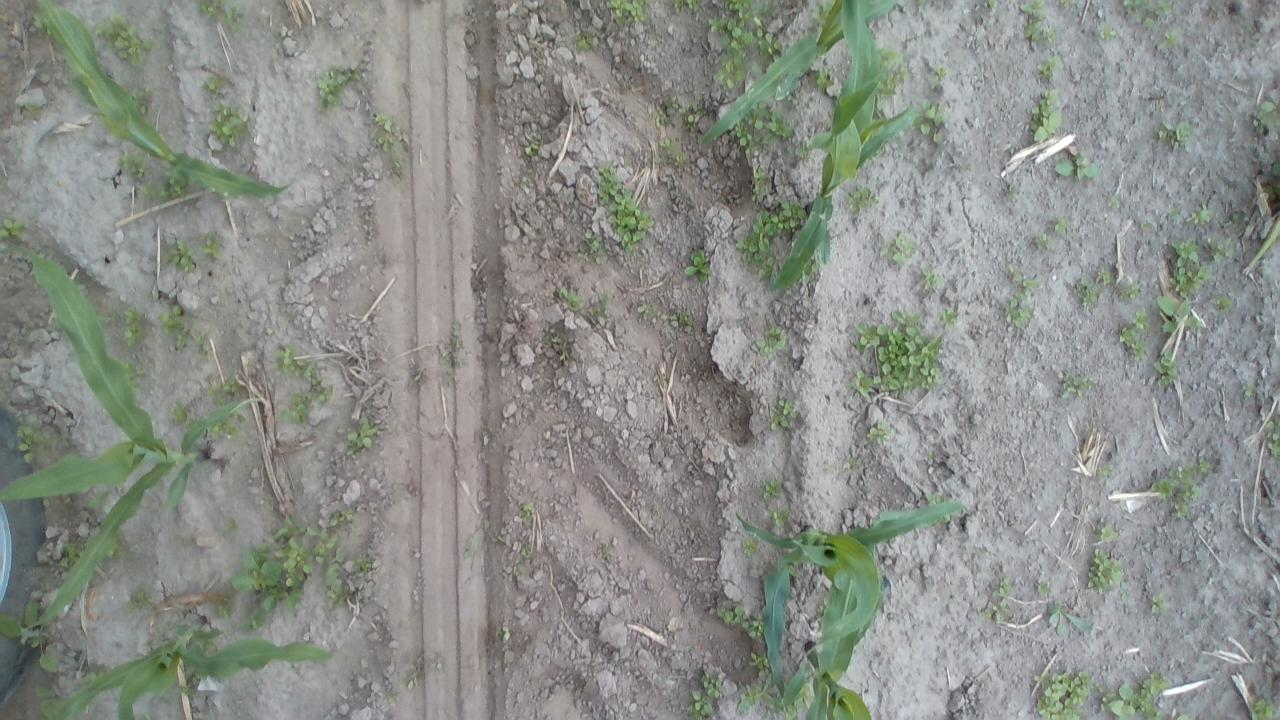Maize: (3, 244, 261, 632), (35, 0, 299, 199), (731, 502, 966, 711), (767, 2, 915, 292), (49, 618, 338, 720), (700, 0, 891, 149), (782, 641, 872, 720)
Weeds: (844, 308, 948, 397), (233, 526, 314, 626), (594, 162, 656, 248), (0, 601, 60, 679), (732, 202, 808, 259), (711, 1, 757, 95), (1091, 667, 1170, 720), (91, 17, 160, 73), (1149, 457, 1210, 520), (273, 344, 337, 403), (732, 104, 792, 163), (1162, 236, 1216, 295), (1030, 666, 1088, 720), (158, 307, 210, 359), (314, 63, 359, 112), (372, 112, 408, 172), (878, 46, 918, 98), (209, 102, 248, 154), (1030, 90, 1064, 146), (314, 510, 352, 560), (1047, 601, 1094, 641), (1158, 296, 1204, 334), (689, 670, 724, 718), (1016, 0, 1056, 41), (1119, 304, 1147, 362), (276, 395, 318, 433), (1090, 550, 1123, 598), (130, 172, 185, 200), (1053, 146, 1097, 181), (324, 552, 350, 610), (1125, 0, 1175, 30), (16, 425, 52, 465), (341, 416, 378, 454), (917, 102, 950, 144), (160, 238, 196, 274), (1154, 344, 1181, 390), (845, 186, 879, 221), (197, 1, 248, 24), (882, 228, 914, 264), (120, 307, 148, 348), (207, 376, 244, 407), (572, 228, 606, 260), (1004, 292, 1032, 330), (756, 327, 791, 356), (746, 167, 773, 204), (1160, 121, 1192, 152), (1058, 372, 1095, 398), (125, 582, 155, 614), (607, 0, 648, 23), (35, 682, 61, 718), (975, 599, 1012, 624), (116, 154, 150, 180), (1075, 278, 1104, 308), (653, 96, 680, 128), (768, 400, 794, 433), (1246, 695, 1280, 720), (1264, 151, 1280, 203), (198, 234, 228, 261), (736, 684, 762, 714), (1207, 238, 1234, 266), (1259, 90, 1280, 126), (756, 27, 782, 56), (863, 422, 892, 448), (917, 268, 946, 294), (543, 334, 568, 364), (462, 528, 483, 563), (558, 284, 584, 312), (1034, 54, 1062, 80), (1265, 412, 1280, 459), (684, 250, 711, 276), (1161, 198, 1185, 227), (756, 256, 778, 286), (203, 75, 232, 97), (587, 296, 608, 326), (682, 104, 708, 128), (61, 542, 86, 566), (791, 137, 812, 165), (755, 0, 787, 18), (1187, 206, 1215, 226), (1008, 270, 1036, 290), (1114, 282, 1142, 302), (403, 667, 423, 694), (168, 401, 190, 425), (760, 477, 783, 499), (932, 66, 951, 92), (712, 606, 739, 624), (634, 298, 656, 320), (0, 219, 23, 240), (1092, 519, 1114, 540), (1030, 234, 1052, 255), (353, 554, 378, 572), (842, 453, 863, 474), (816, 70, 834, 94), (130, 89, 150, 110), (746, 650, 766, 671), (1228, 209, 1246, 232), (668, 309, 688, 329), (770, 506, 788, 528), (742, 620, 764, 638), (1158, 30, 1180, 48), (940, 307, 961, 325), (1096, 23, 1116, 41), (1148, 591, 1165, 612), (812, 0, 828, 22), (673, 0, 699, 13), (573, 34, 594, 50), (740, 539, 758, 557), (1003, 184, 1018, 205), (1034, 576, 1052, 593), (1136, 216, 1154, 233), (656, 138, 675, 154), (673, 152, 689, 171), (210, 424, 240, 434), (499, 624, 514, 644), (1110, 194, 1125, 214), (924, 495, 952, 505), (1120, 578, 1132, 601), (796, 688, 811, 706), (524, 142, 540, 158), (1214, 296, 1230, 312), (994, 579, 1010, 595), (1170, 711, 1198, 720), (522, 500, 534, 520), (1097, 462, 1110, 480), (1244, 381, 1256, 400), (520, 544, 536, 558), (1094, 271, 1111, 284), (216, 603, 230, 618), (1059, 0, 1080, 10), (782, 707, 798, 720), (1050, 217, 1066, 230), (984, 0, 997, 10), (429, 661, 444, 669), (961, 163, 971, 172), (914, 0, 926, 7)
